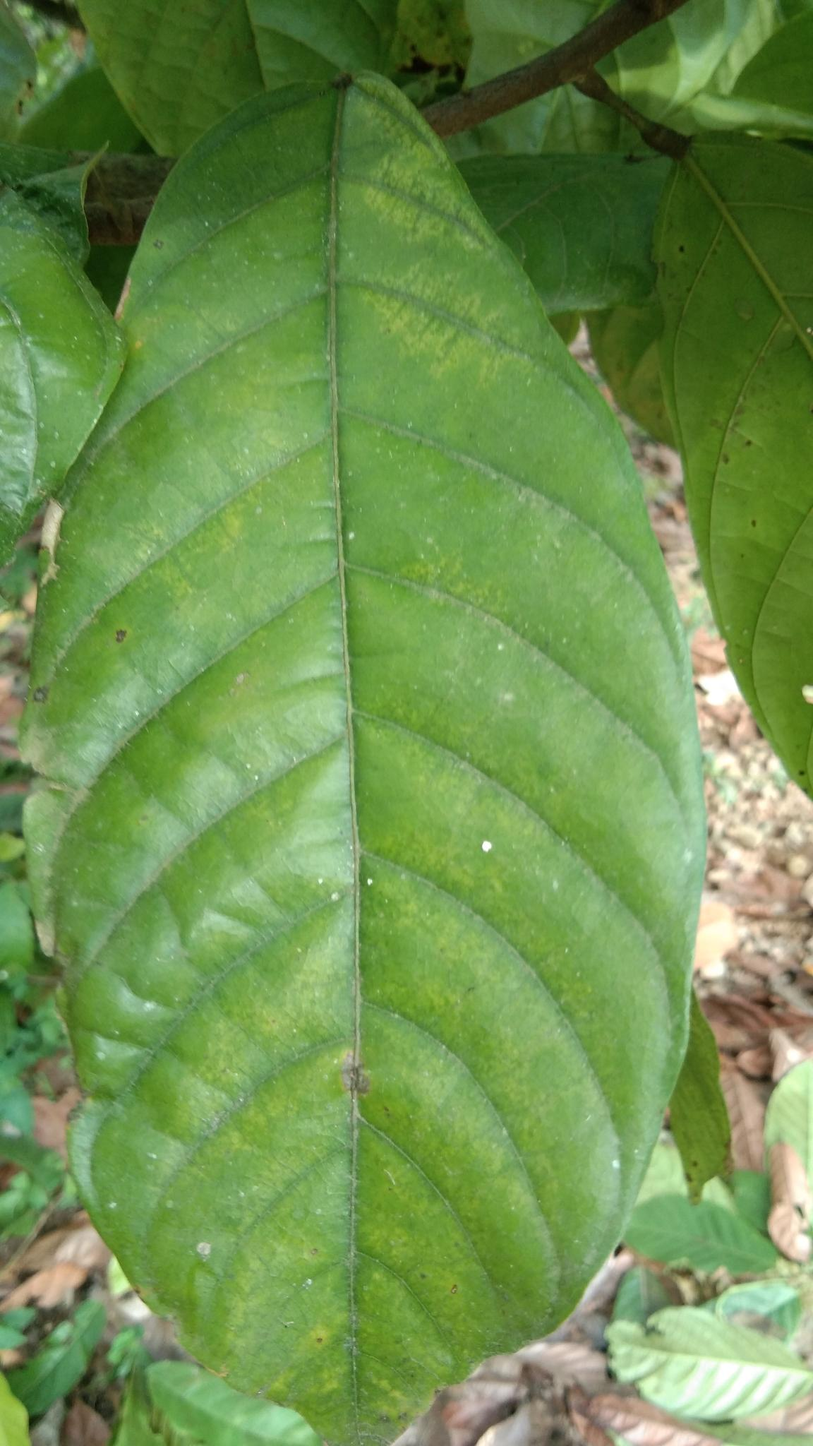Fosforo: (35, 63, 716, 1446)
